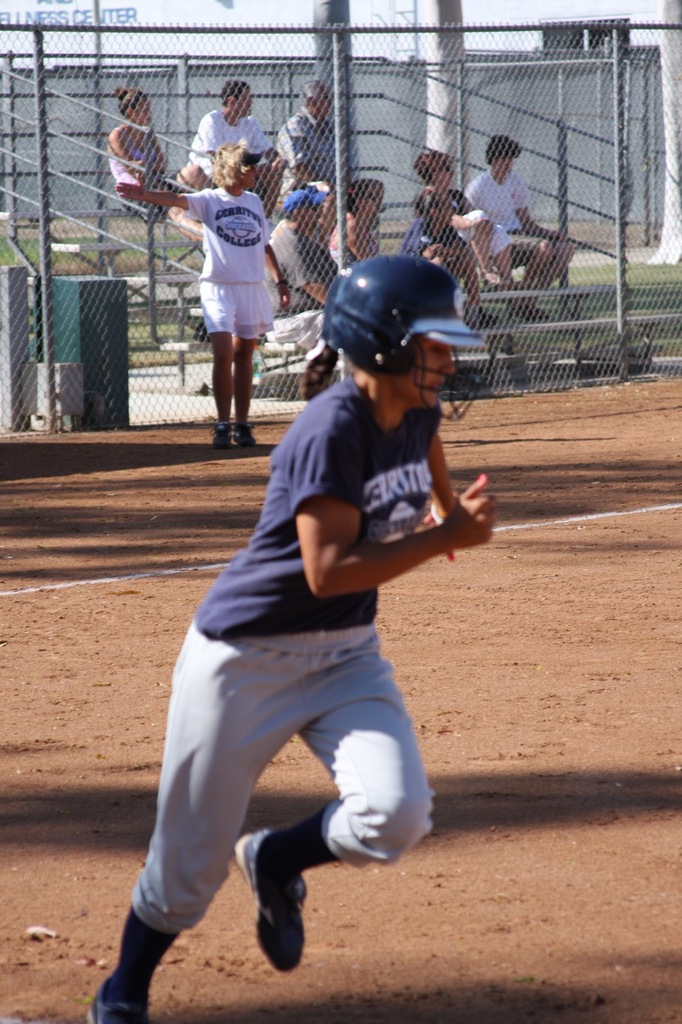Person: (80, 248, 499, 1024), (100, 75, 579, 449)
